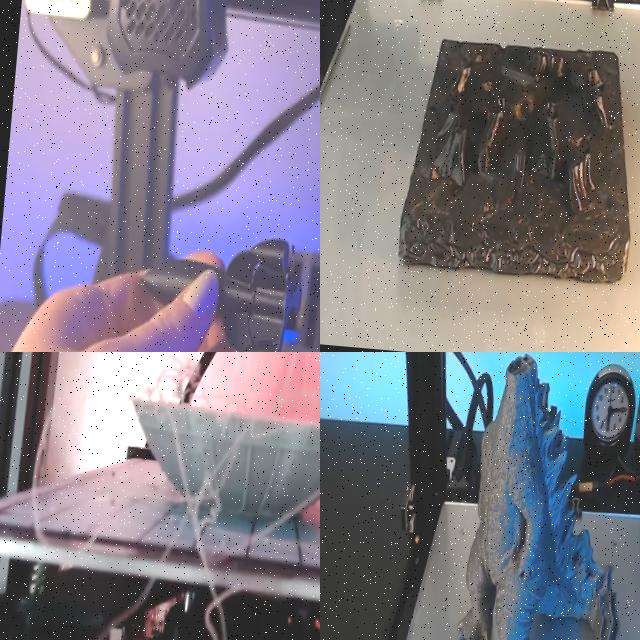spaghetti: (6, 352, 320, 640)
